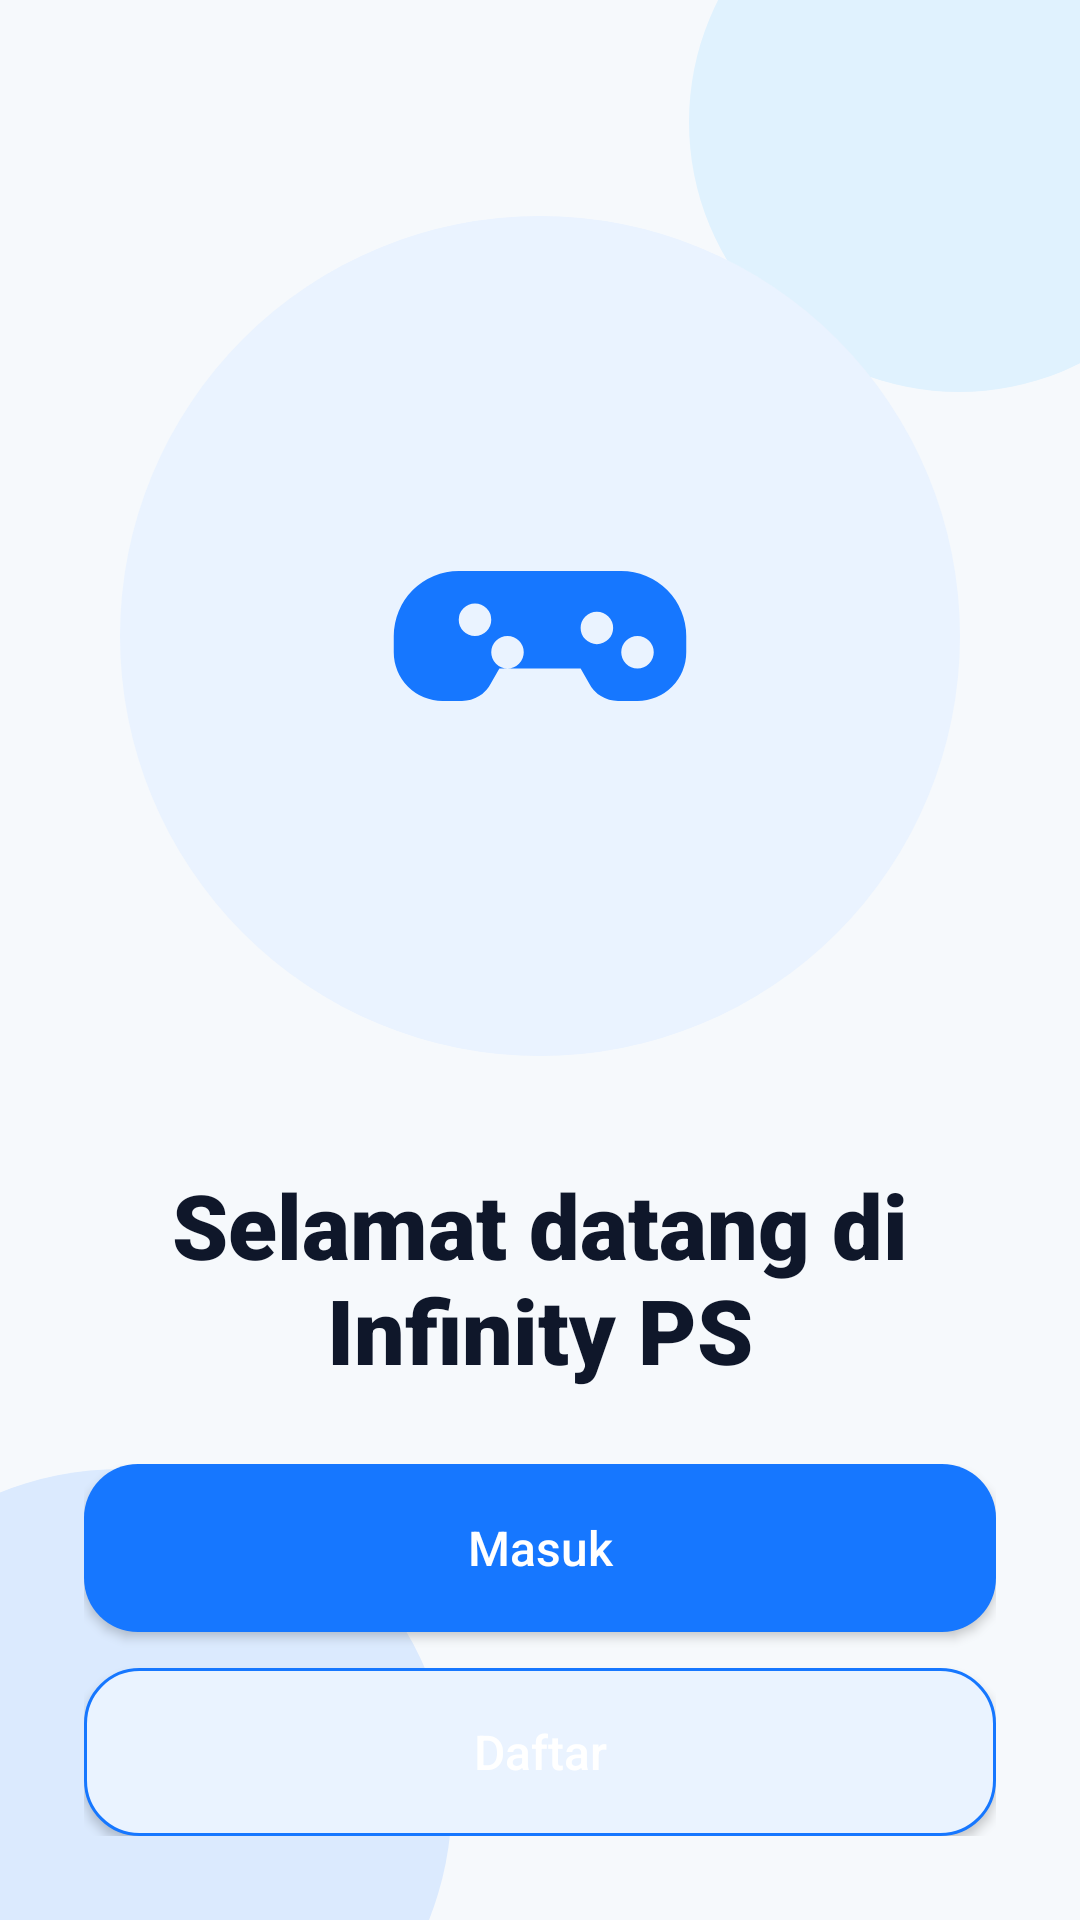

Screen size 1080 × 1920. Icon name, then its box in pixels as Rect(x1, y1, x2, y2):
Welcome illustration: Rect(393, 571, 687, 701)
